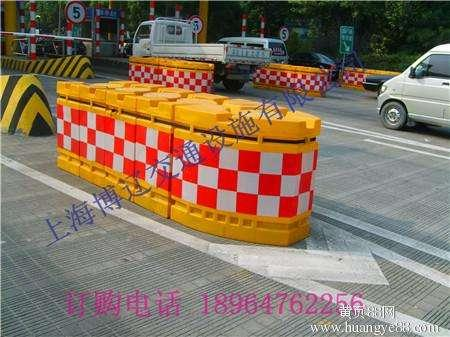sign: (48, 73, 340, 253)
